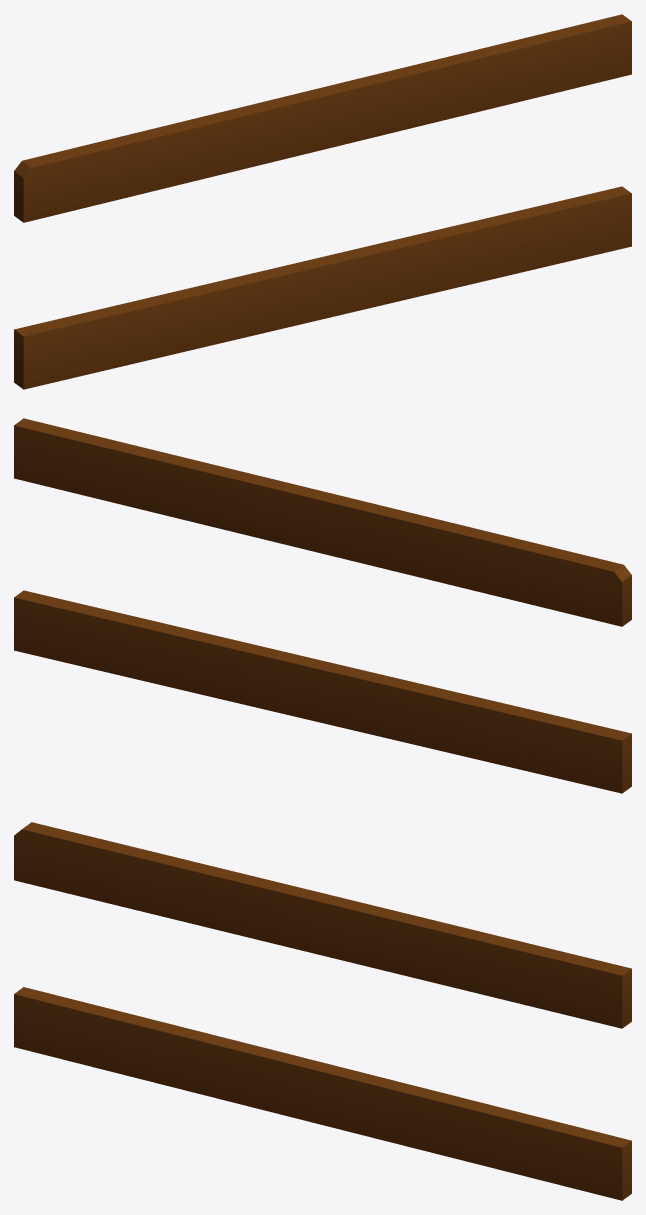
The model's file is Fence_Supports_A.fbx.
The picture shows the model from 3 angles, top to bottom: view 1: azimuth 30°, elevation 25°; view 2: azimuth 150°, elevation 25°; view 3: azimuth 330°, elevation 25°; orthographic projection.
Visible parts, largest first — view 1: Fence_Supports_A; view 2: Fence_Supports_A; view 3: Fence_Supports_A.
Part boxes in pixels (x1,y1,x2,y2): Fence_Supports_A: [14, 14, 631, 389]; Fence_Supports_A: [14, 418, 631, 793]; Fence_Supports_A: [14, 822, 631, 1200].
Size of the model in its own units: 180 by 5 by 63.66.
Materials: 1 (1 with a texture image).
